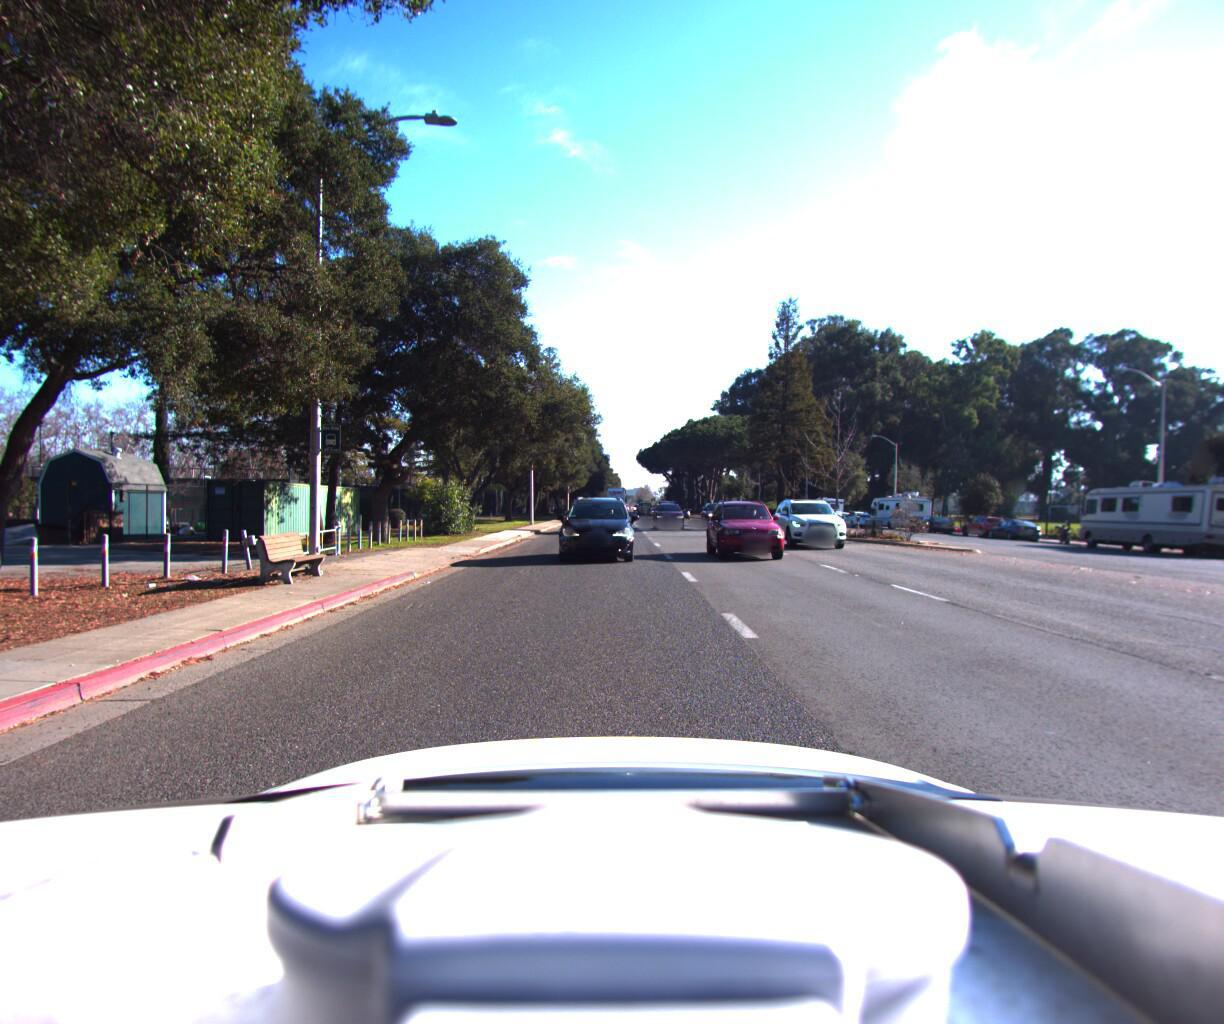car: (552, 491, 636, 573), (703, 498, 788, 566), (764, 495, 855, 556), (956, 519, 1012, 545), (983, 524, 1043, 548), (909, 520, 955, 542), (653, 502, 685, 532), (839, 516, 873, 536)
motorcycle: (1052, 525, 1074, 552)
other_vehicle: (1072, 479, 1224, 566), (864, 495, 934, 538)
